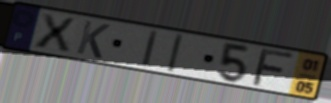5: (215, 41, 251, 85)
F: (249, 48, 299, 88)
I: (165, 32, 186, 75), (139, 29, 161, 70)
K: (74, 19, 113, 61)
X: (32, 11, 78, 54)
